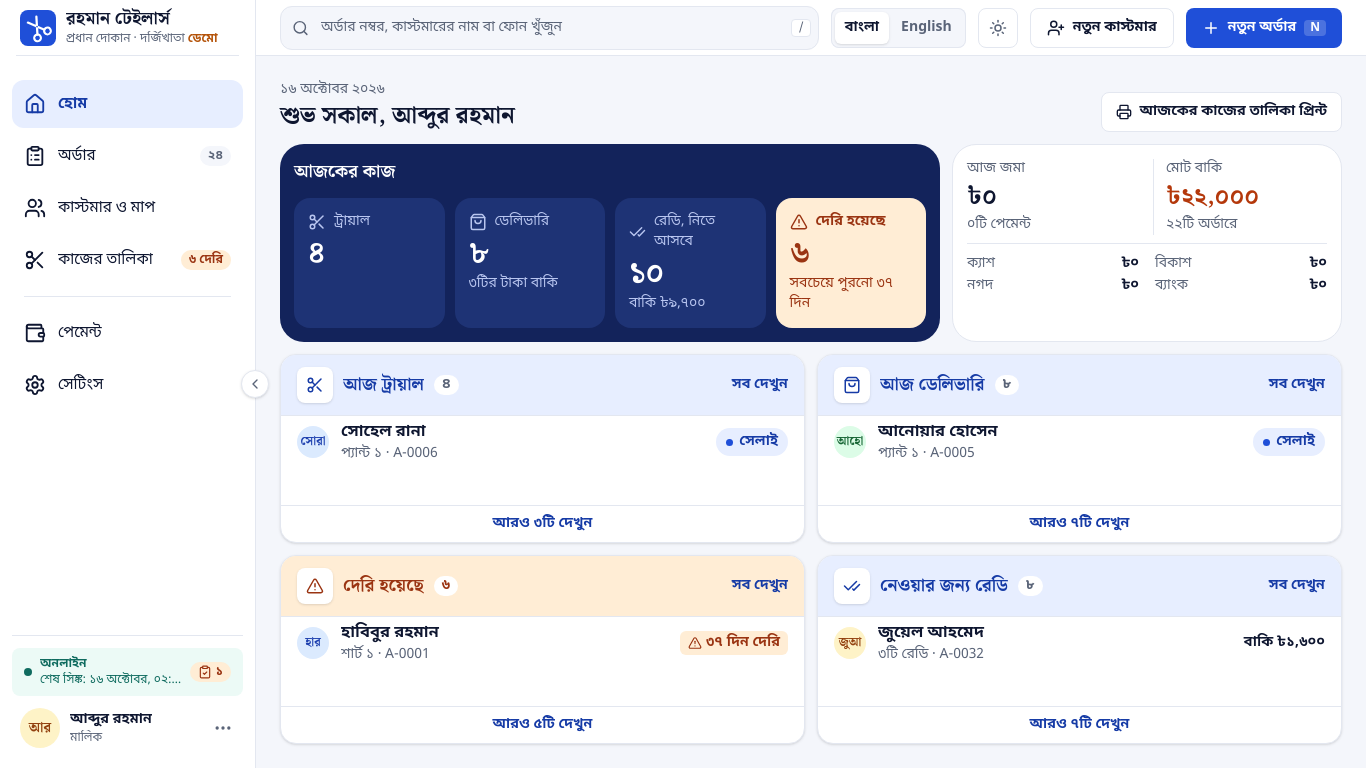
Test case: Desktop sidebar and top bar › shows language, theme and layout in view in the account popup, and switches language there
The image size is (1366, 768).
Click the button named "অ্যাকাউন্ট ও আরও" at (223, 728), box [203,708,243,748]
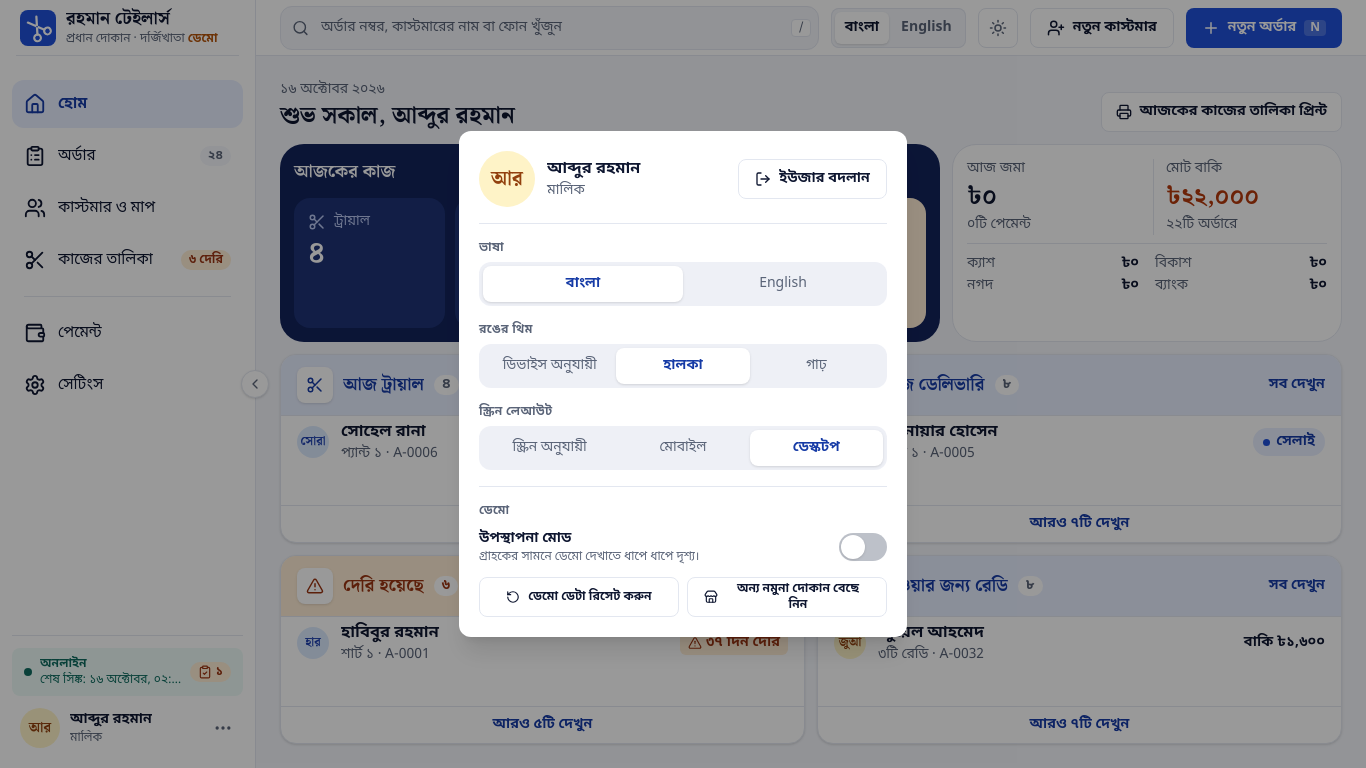
Expected: the button "ইউজার বদলান" is shown, [738,159,887,199]
Click the radio button labelled "English" at (783, 284), box [683,266,883,302]
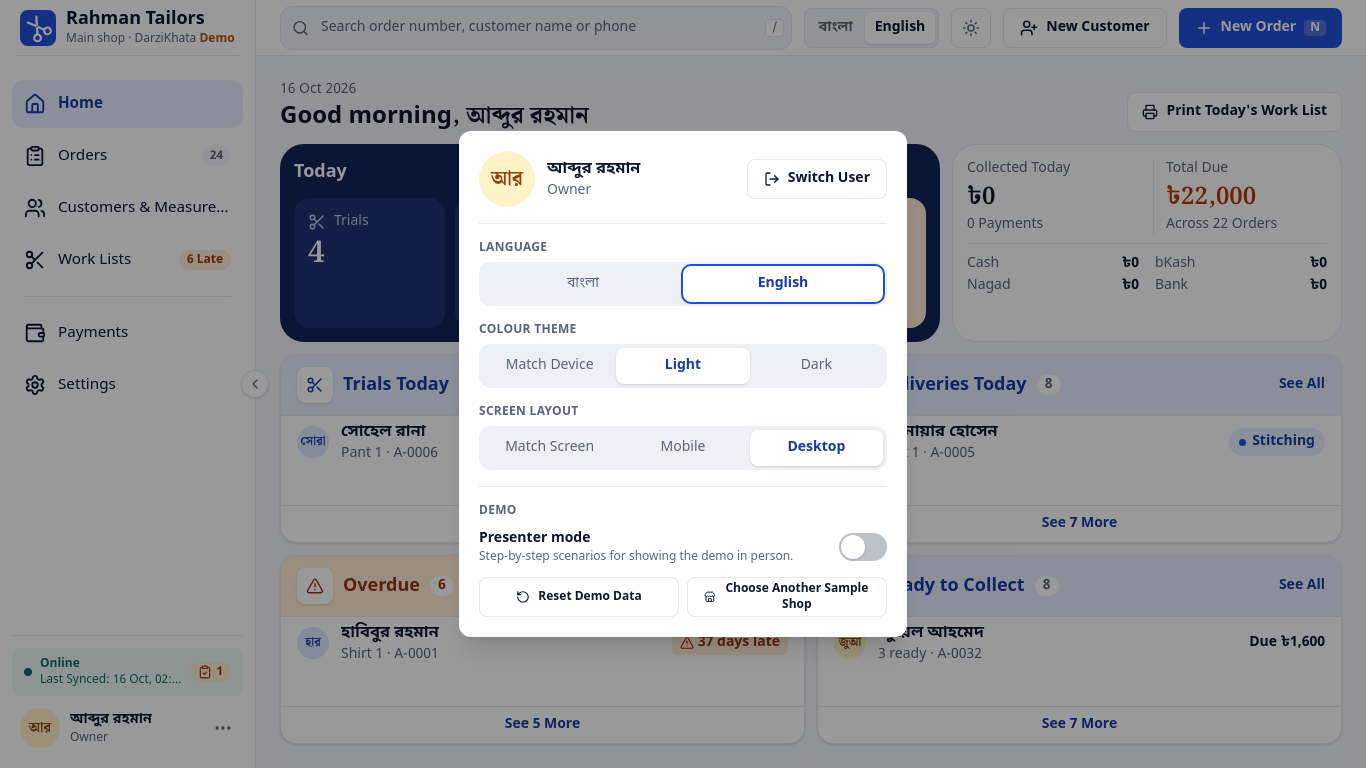
Expected: the button "Reset Demo Data" is shown
Click the button "Reset Demo Data" at (579, 597), box [479,577,679,617]
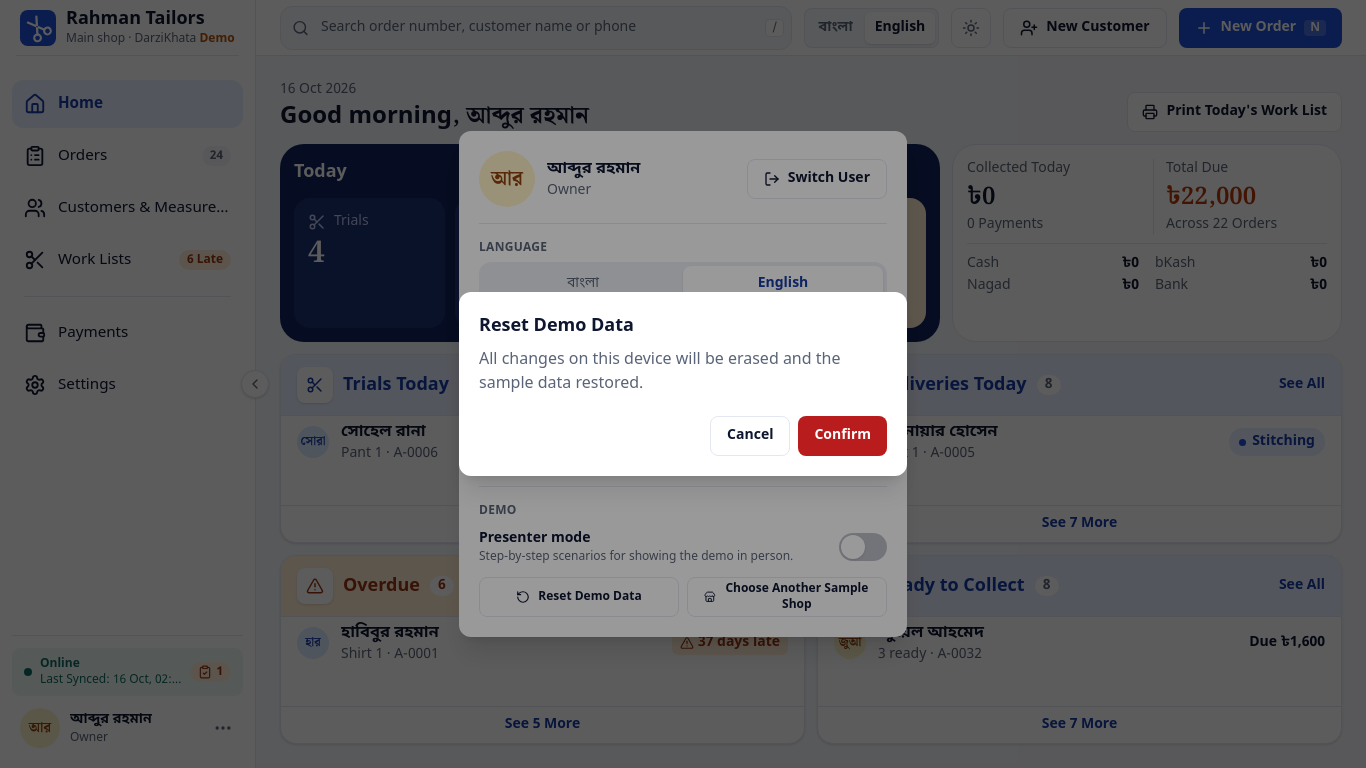
Expected: the dialog "Reset Demo Data" is shown, [459,292,907,476]
